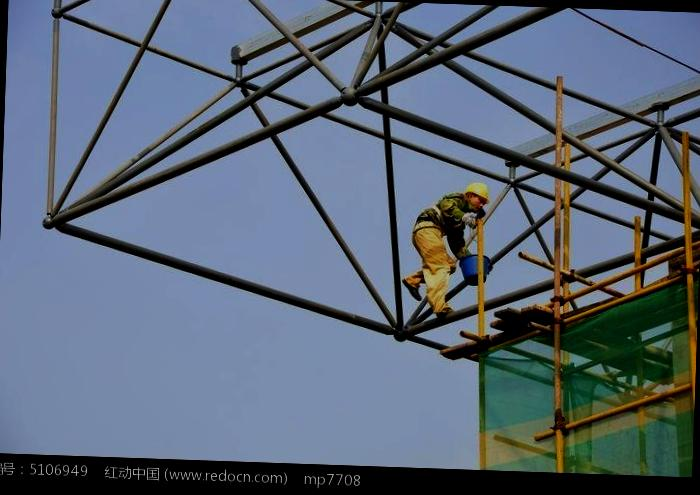person: (401, 175, 494, 317)
